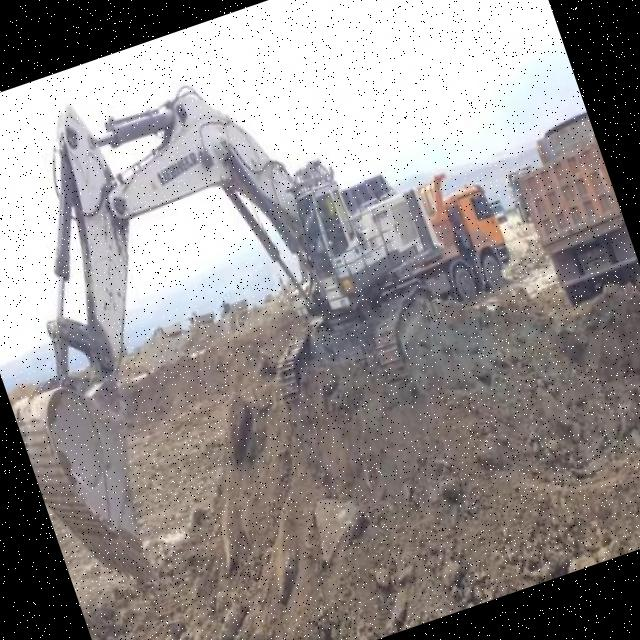Dump Truck: (497, 98, 640, 312), (409, 161, 520, 300)
Excavator: (0, 0, 514, 608)
